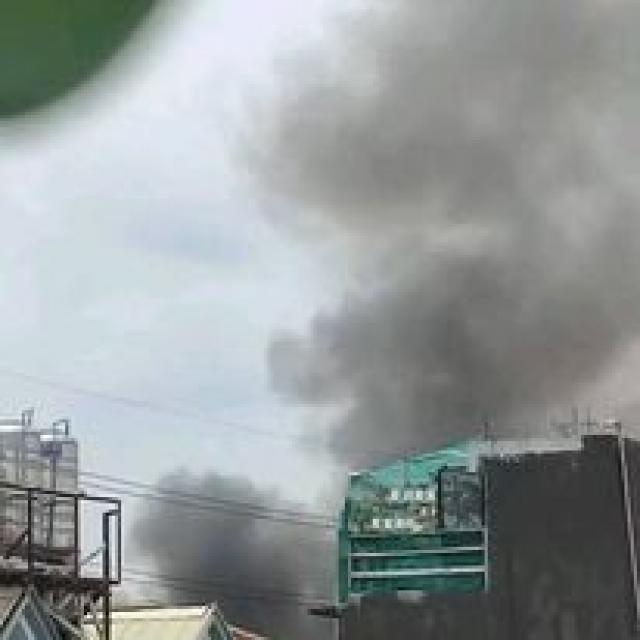Smoke: (315, 18, 640, 402), (161, 464, 320, 600), (272, 362, 416, 458)
